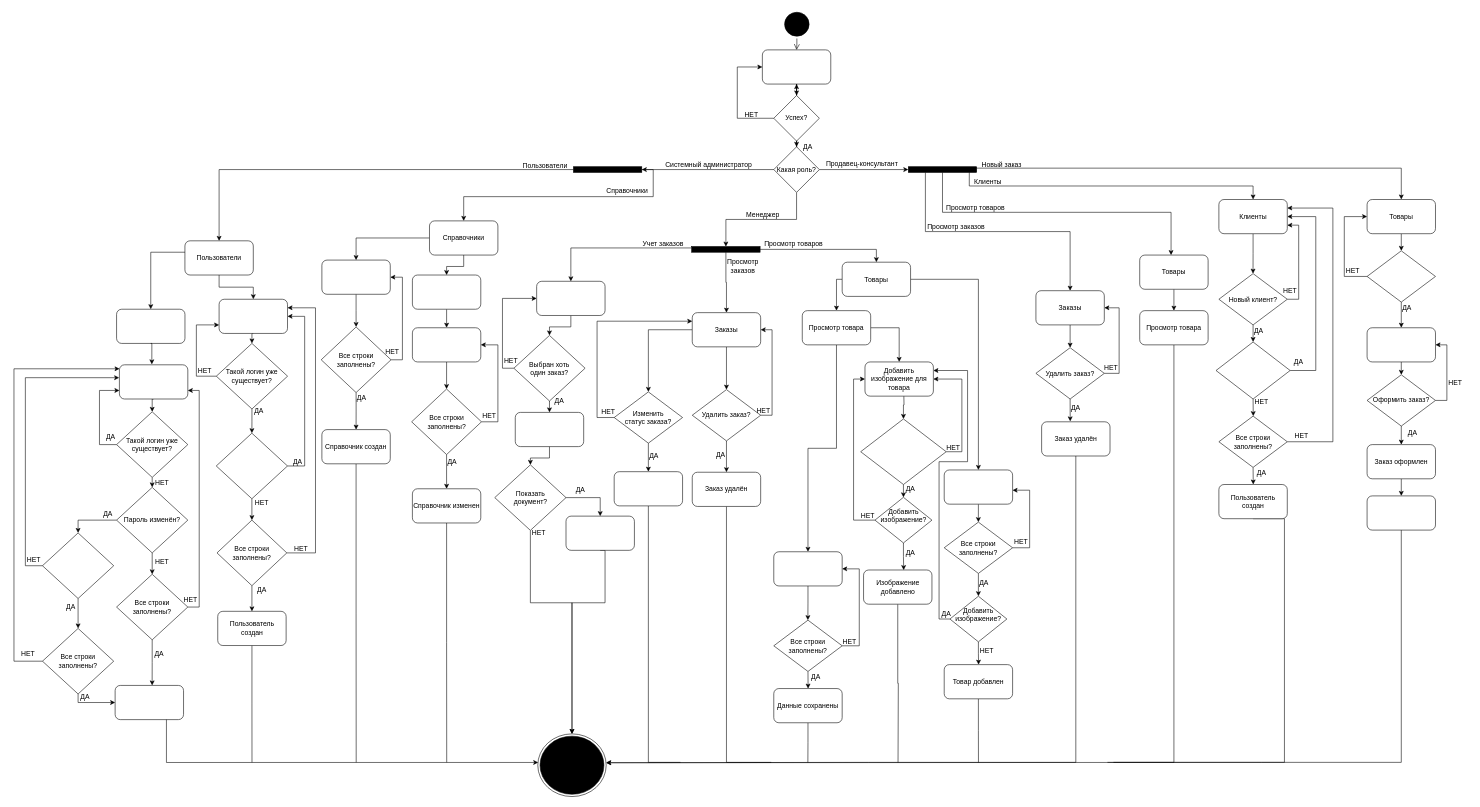
Image size: 1480x807. Some labels were removed from this diagram. The centre of each missing label's shape, as x and y in pixels:
"Авторизация" belongs at point (796, 66).
"Выбран хоть 1 товар?" belongs at point (1401, 276).
"Добавить товар" belongs at point (978, 486).
"Документ софрмирован" belongs at point (549, 429).
"Корзина" belongs at point (1401, 344).
"Новый пароль больше 3х символов" belongs at point (78, 565).
"Отображение документа" belongs at point (599, 533).
"Пароль имеет больше 3х символов?" belongs at point (252, 466).
"Печать чека" belongs at point (1401, 512).
"Пользователь изменён" belongs at point (149, 702).
"Просмотр пользователя" belongs at point (150, 326).
"Просмотр справочника" belongs at point (446, 291).
"Редактирование справочника" belongs at point (446, 344).
"Редактировать данные" belongs at point (807, 568).
"Редактировать пользователя" belongs at point (153, 381).
"Создать пользователя" belongs at point (253, 316).
"Создать справочник" belongs at point (355, 277).
"Статус заказа изменен" belongs at point (648, 488).
"Сформировать документ на учет заказов" belongs at point (570, 298).
"Такой номер уже существует?" belongs at point (1252, 370).
"Файл разрешения .jpeg или .png и весит меньше 5 мб" belongs at point (903, 451).
